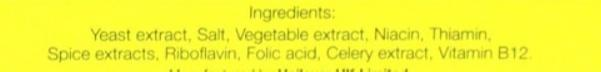ingredients: (39, 2, 550, 72)
